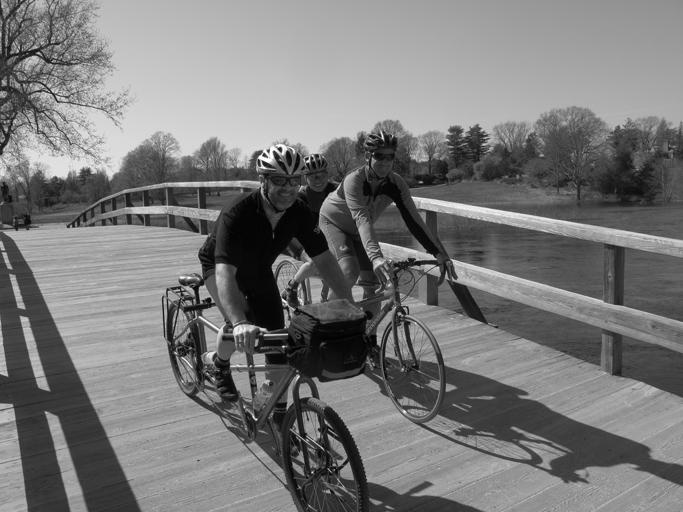non-vehicle: (158, 270, 371, 511), (271, 248, 457, 427)
